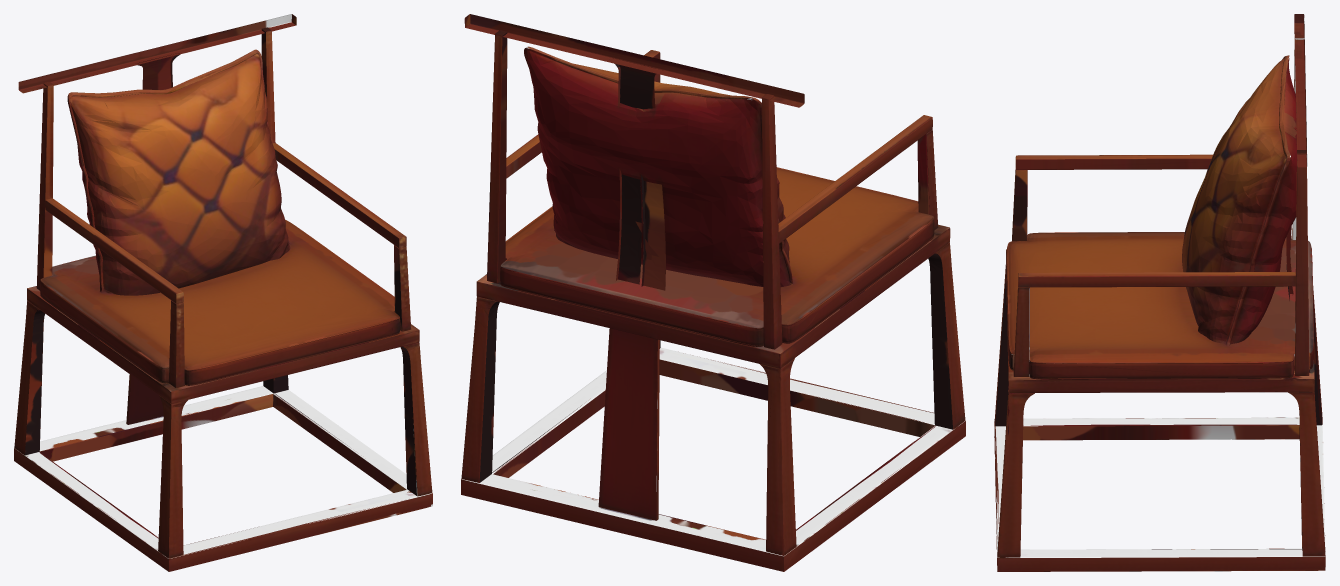
The model's file is edited_mesh.glb.
The picture shows the model from 3 angles, left to right: view 1: azimuth 30°, elevation 25°; view 2: azimuth 150°, elevation 25°; view 3: azimuth 270°, elevation 25°; orthographic projection. The views are drawn at different scales.
Parts seen in each view (by area): view 1: solid_001_wire; view 2: solid_001_wire; view 3: solid_001_wire.
Boxes of the visible parts, x1,y1,x2,y2 form: solid_001_wire: (14,14,432,571); solid_001_wire: (461,14,965,571); solid_001_wire: (994,14,1325,571).
Size of the model in its own units: 1.08 by 1.46 by 1.05.
Materials: 1 (1 with a texture image).
